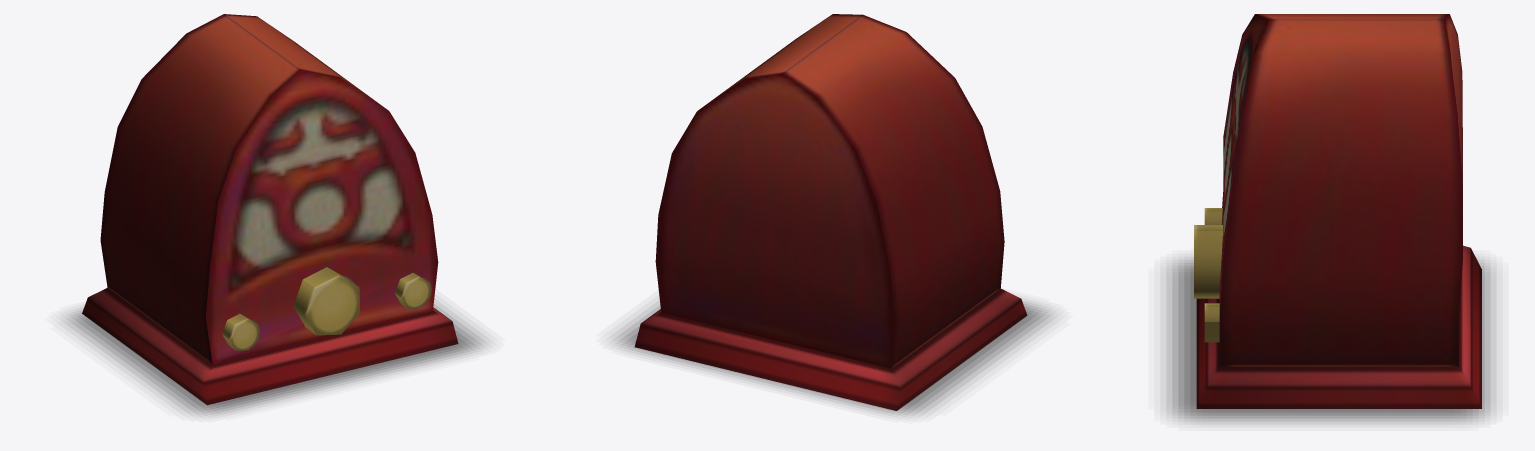
Rendered from RADIO_B.glb.
3 views of the same model, side by side, from view 1: azimuth 30°, elevation 25°; view 2: azimuth 150°, elevation 25°; view 3: azimuth 270°, elevation 25° (orthographic). The views are drawn at different scales.
Parts seen in each view (by area): view 1: Radio_B, pPlane1, Radio_Knob_a, Radio_Knob_a1, Radio_Knob_a2; view 2: Radio_B, pPlane1; view 3: Radio_B, pPlane1, Radio_Knob_a, Radio_Knob_a2.
Boxes of the visible parts, x1,y1,x2,y2 form: Radio_B: [82, 14, 458, 405]; pPlane1: [62, 300, 487, 416]; Radio_Knob_a: [293, 267, 360, 335]; Radio_Knob_a1: [222, 313, 258, 350]; Radio_Knob_a2: [395, 273, 430, 308]; Radio_B: [634, 14, 1027, 410]; pPlane1: [612, 300, 1055, 416]; Radio_B: [1196, 14, 1481, 408]; pPlane1: [1166, 257, 1495, 423]; Radio_Knob_a: [1194, 225, 1222, 298]; Radio_Knob_a2: [1204, 303, 1219, 342].
Bounding box in the file's own units: 0.1275 × 0.0971 × 0.1058.
Materials: 6 (6 with a texture image).
